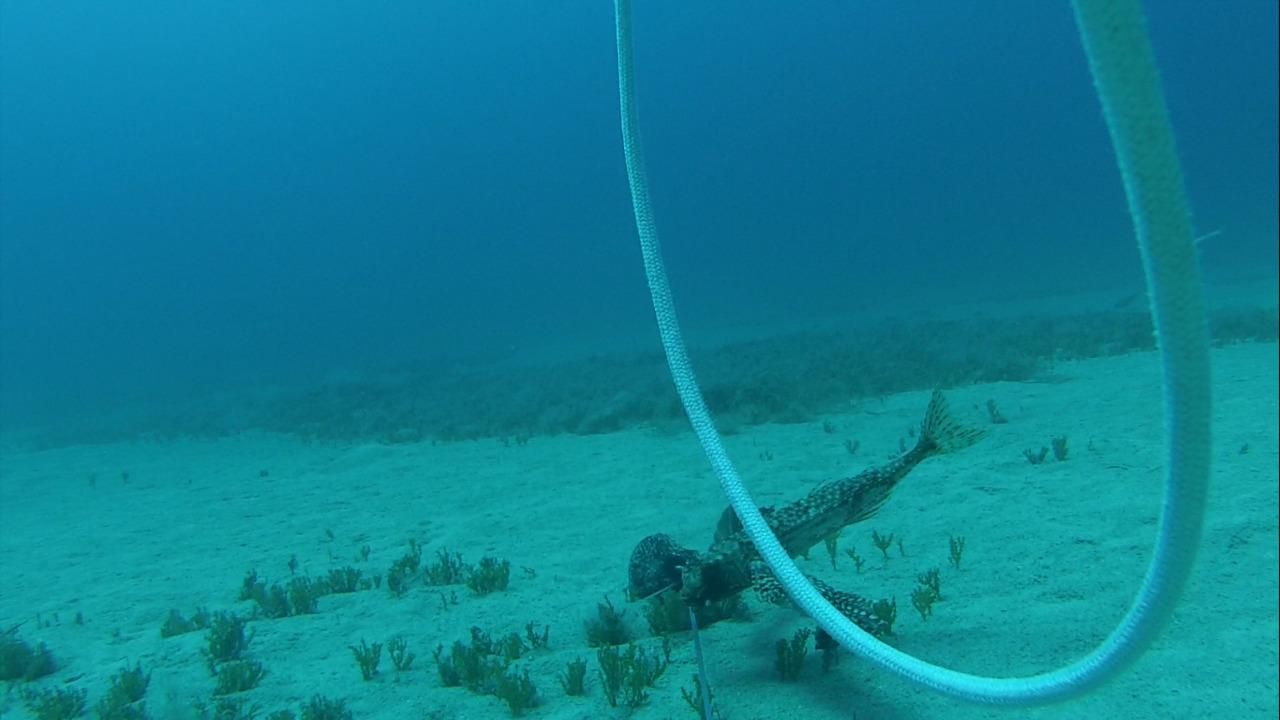dactylopterus: (626, 389, 982, 646)
